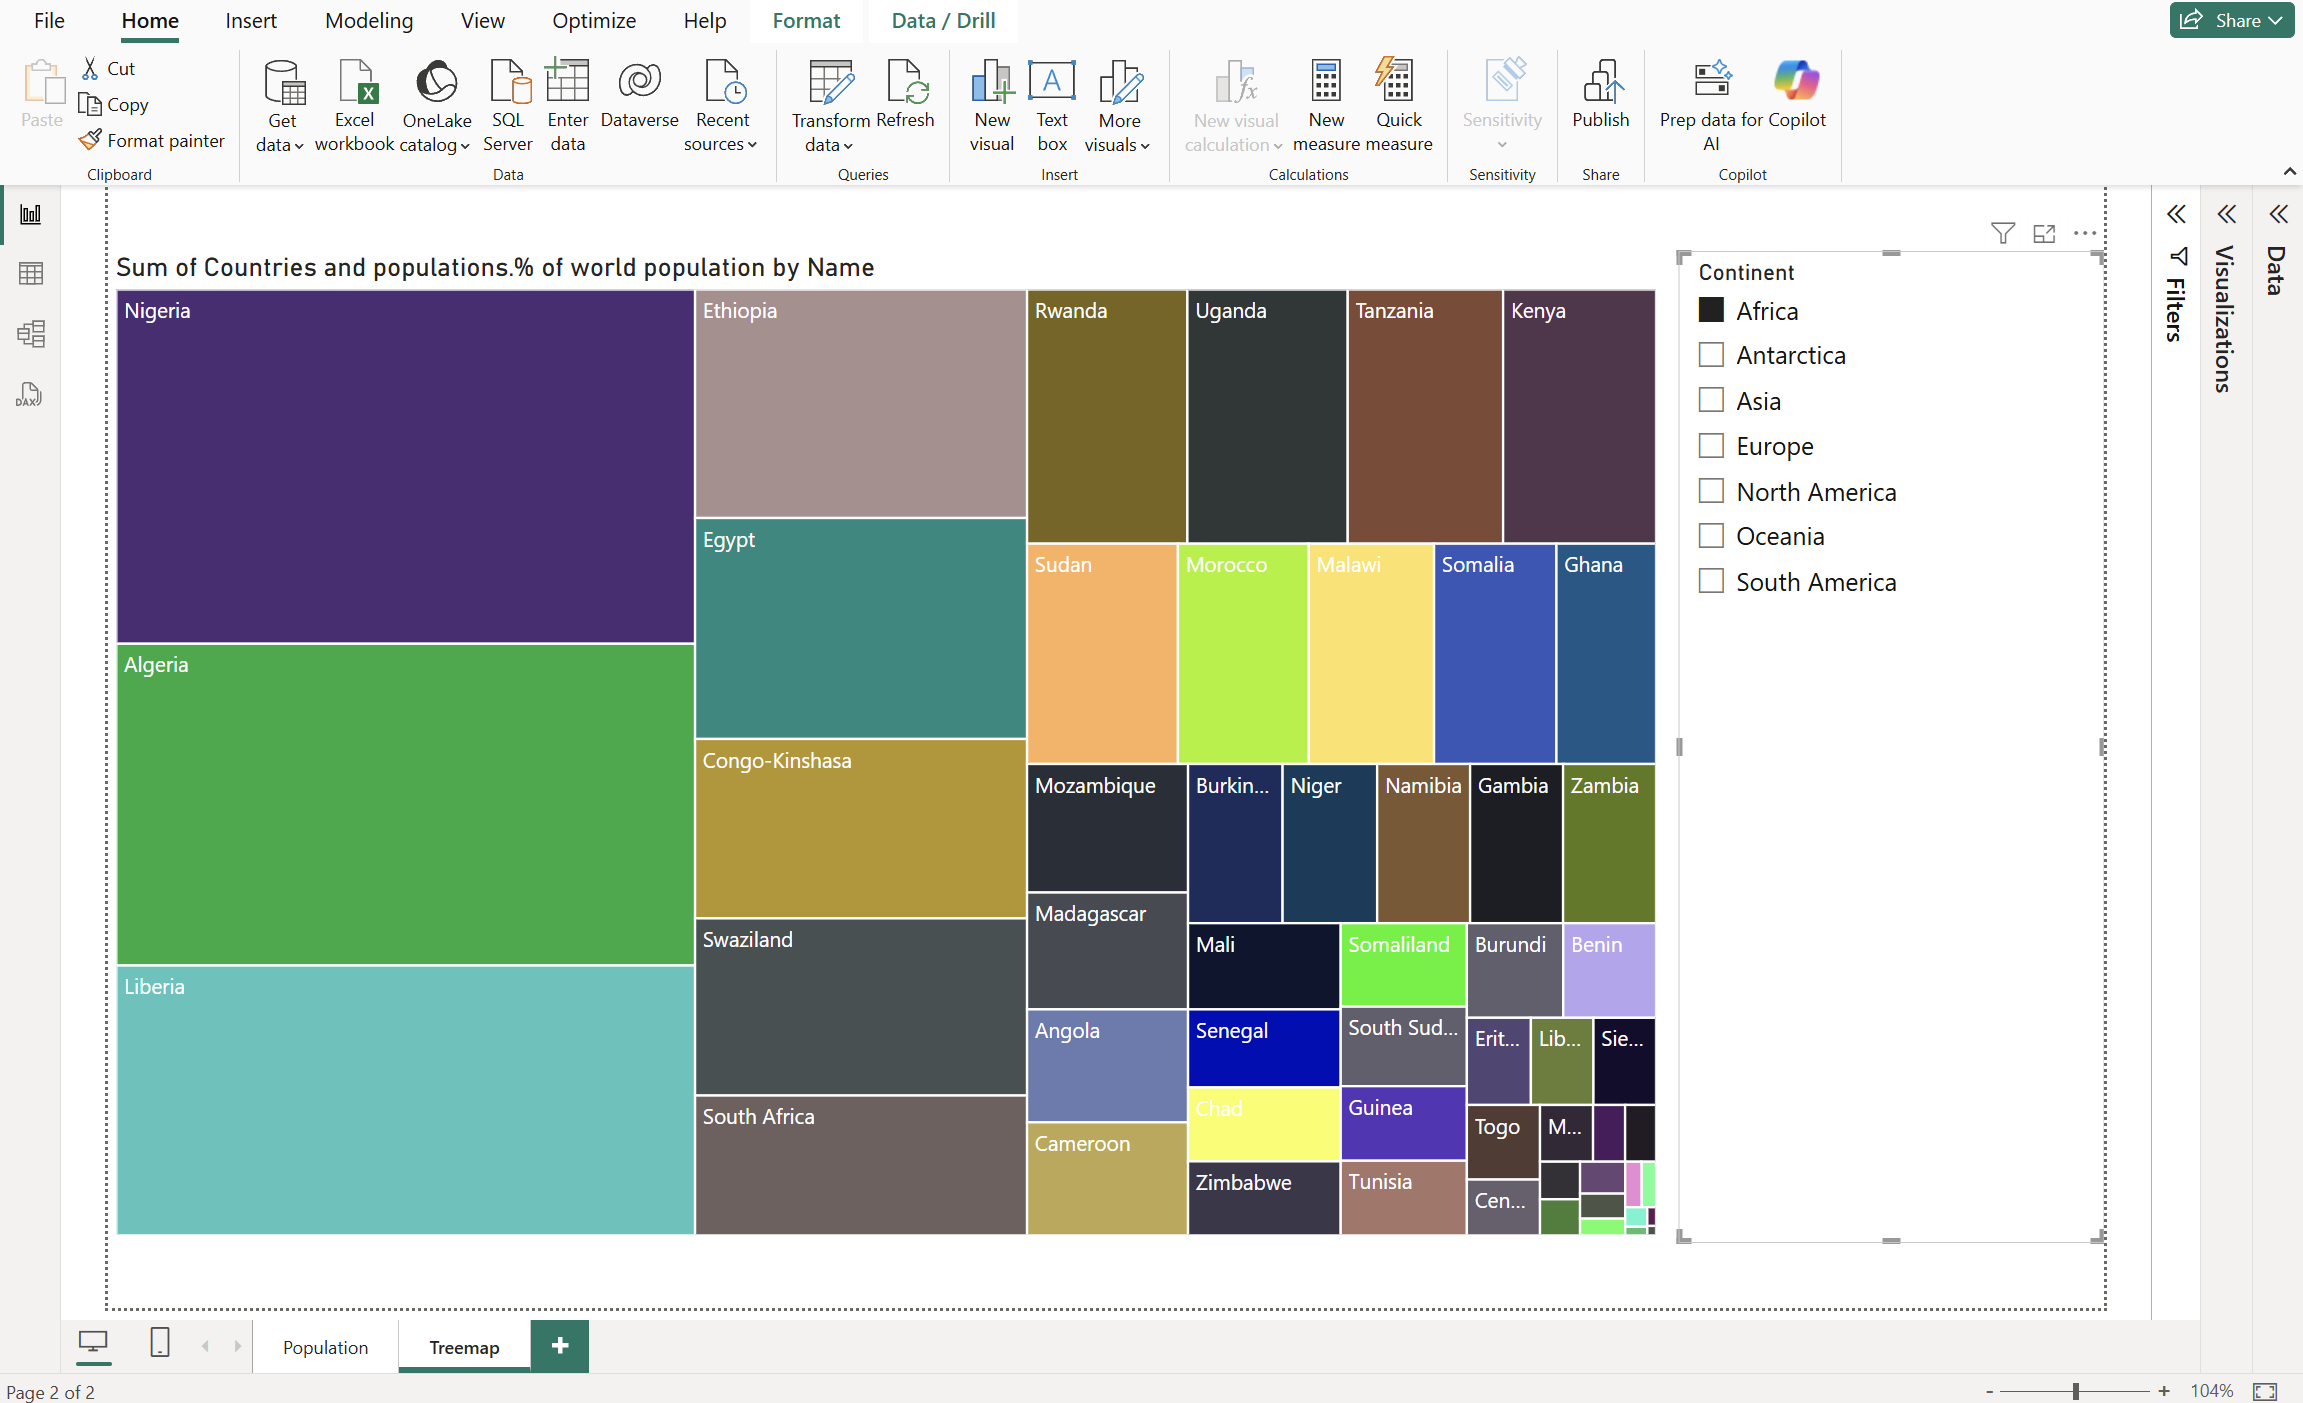

Layout of this report page (visuals, bound fields, positions):
{"tool":"powerbi","page":{"name":"Treemap","canvas":[1280,720],"ordinal":1},"visuals":[{"type":"treemap","fields":{"Group":["All countries and populations.Name"],"Values":["Sum(All countries and populations.Countries and populations.% of world population)"]},"box":[0,41.8,997.2,635.7],"z":1},{"type":"slicer","fields":{"Values":["All countries and populations.Continent"]},"box":[1007,42,273,636],"z":2}]}

Visuals, with their boxes on the page's 1280x720 design canvas (x1, y1, x2, y2). These are canvas units, not pixel positions in the 2303x1403 screenshot, which may show the page scaled, cropped or inside an application window:
treemap - All countries and populations.Name x Sum(All countries and populations.Countries and populations.% of world population): box(0, 42, 997, 678)
slicer - All countries and populations.Continent: box(1007, 42, 1280, 678)
